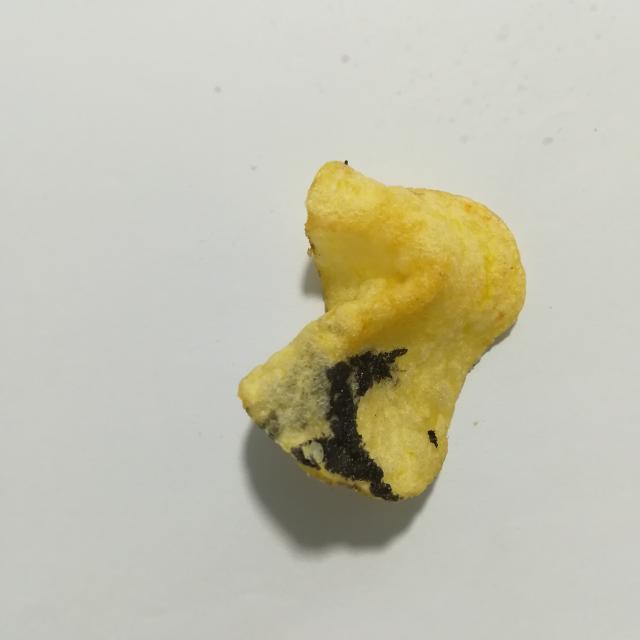chip: (238, 161, 525, 501)
damaged: (314, 348, 408, 500), (291, 447, 320, 469), (427, 430, 438, 448)
semi-damaged: (245, 350, 331, 441)
